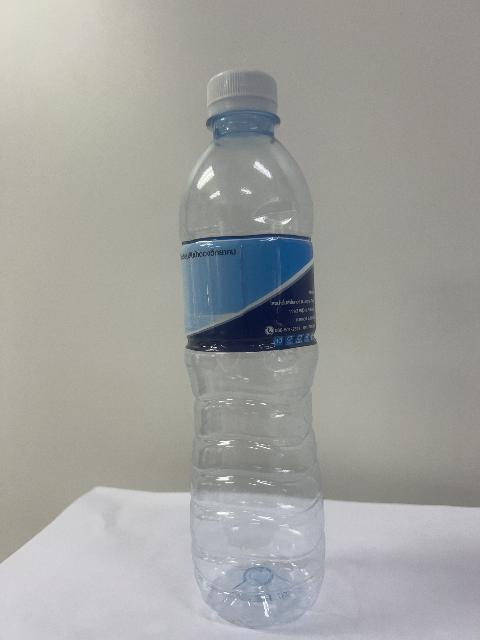bottle: (180, 70, 324, 627)
